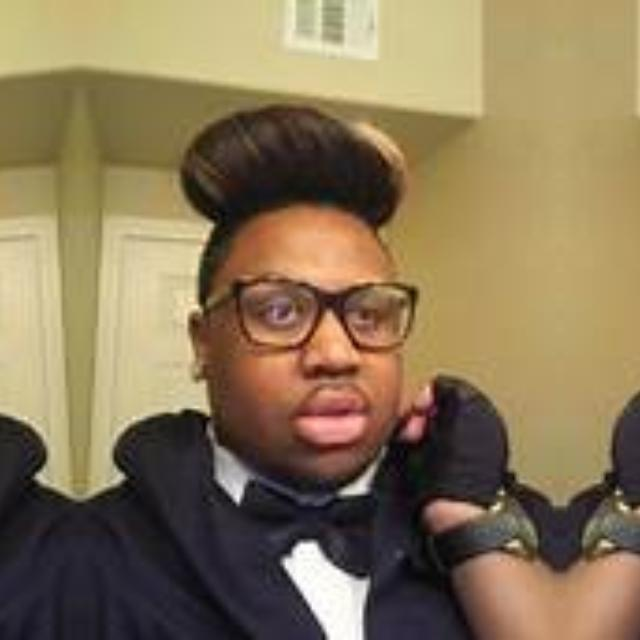person: (171, 112, 549, 640), (571, 112, 640, 640)
